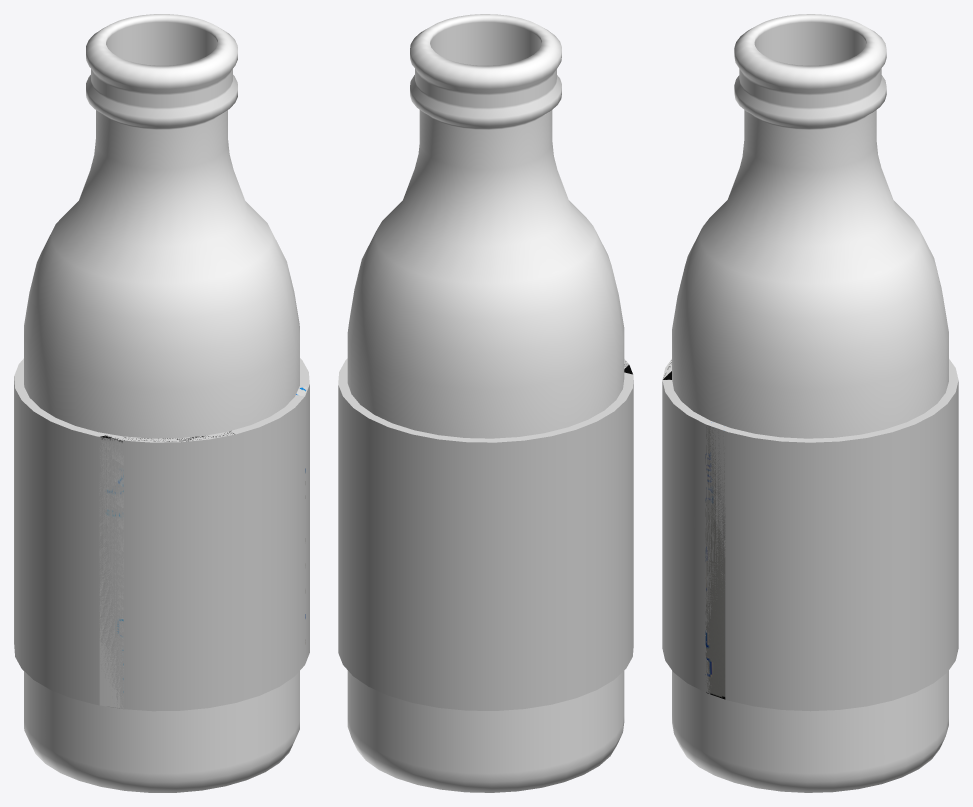
The model's file is bottle.glb.
3 views of the same model, side by side, from view 1: azimuth 30°, elevation 25°; view 2: azimuth 150°, elevation 25°; view 3: azimuth 270°, elevation 25° (orthographic).
Visible parts, largest first — view 1: bottle, Cylinder, Cylinder.001; view 2: bottle, Cylinder; view 3: bottle, Cylinder, Cylinder.001.
Part boxes in pixels (left/top/right/bottom): bottle: left=24, top=14, right=299, bottom=792; Cylinder: left=14, top=358, right=309, bottom=711; Cylinder.001: left=99, top=386, right=306, bottom=708; bottle: left=347, top=14, right=624, bottom=792; Cylinder: left=338, top=358, right=633, bottom=710; bottle: left=672, top=14, right=948, bottom=792; Cylinder: left=662, top=359, right=958, bottom=711; Cylinder.001: left=663, top=360, right=725, bottom=699.
Bounding box in the file's own units: 0.088 × 0.2296 × 0.088.
5 materials, 1 textured.
